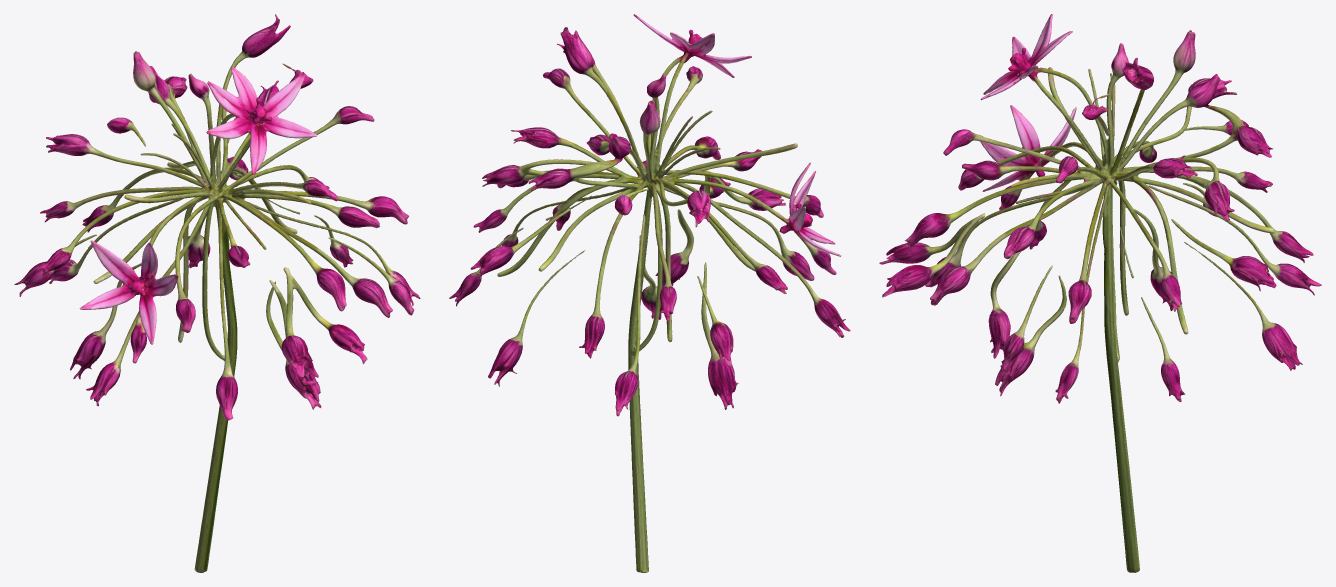
Rendered from allium.glb.
3 views of the same model, side by side, from view 1: azimuth 30°, elevation 25°; view 2: azimuth 150°, elevation 25°; view 3: azimuth 270°, elevation 25° (orthographic). The views are drawn at different scales.
Parts seen in each view (by area): view 1: Mesh1.0; view 2: Mesh1.0; view 3: Mesh1.0.
Part boxes in pixels (x1=…): Mesh1.0: x1=14, y1=14, x2=420, y2=572; Mesh1.0: x1=449, y1=14, x2=850, y2=572; Mesh1.0: x1=879, y1=14, x2=1321, y2=572.
Size of the model in its own units: 1.28 by 1.91 by 1.39.
1 material, 1 textured.
